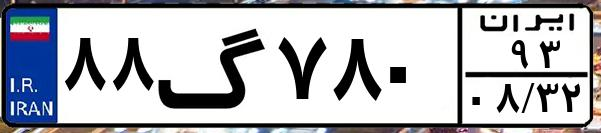0: (385, 28, 445, 110), (470, 70, 495, 125)
2: (560, 70, 590, 125)
3: (537, 27, 568, 80), (535, 70, 560, 125)
7: (270, 28, 330, 110)
8: (330, 28, 385, 110), (57, 26, 110, 100), (110, 28, 156, 98), (495, 70, 520, 125)
9: (508, 27, 537, 80)
گ: (156, 12, 270, 120)
